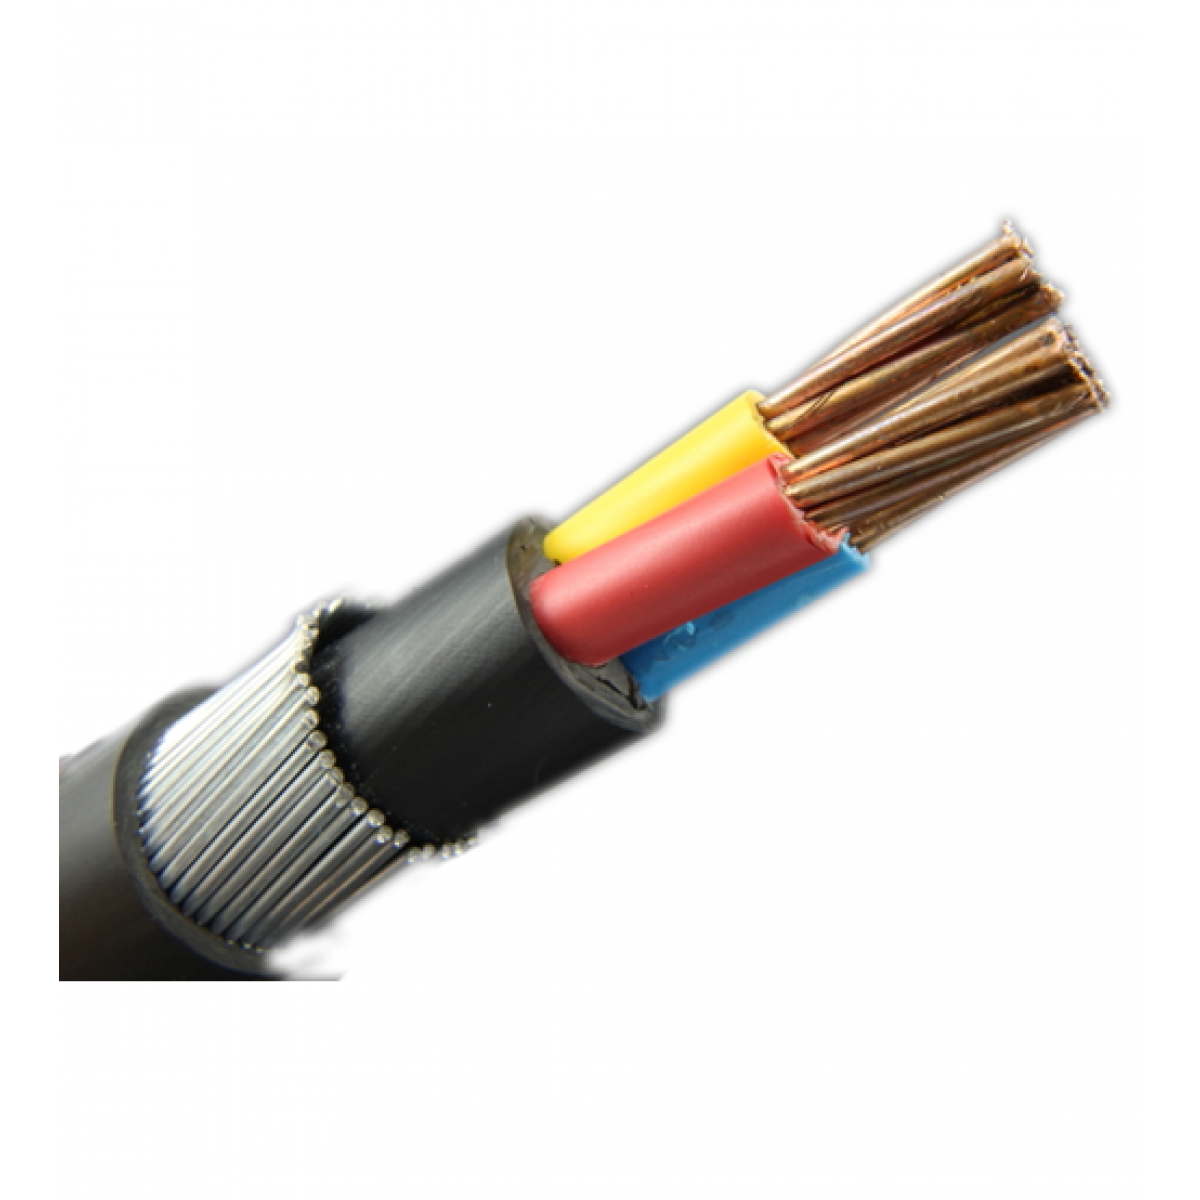Nonrec_Tangler: (84, 142, 1119, 1020)
